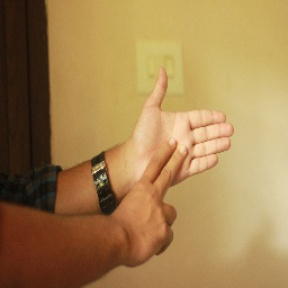N: (116, 69, 247, 253)
